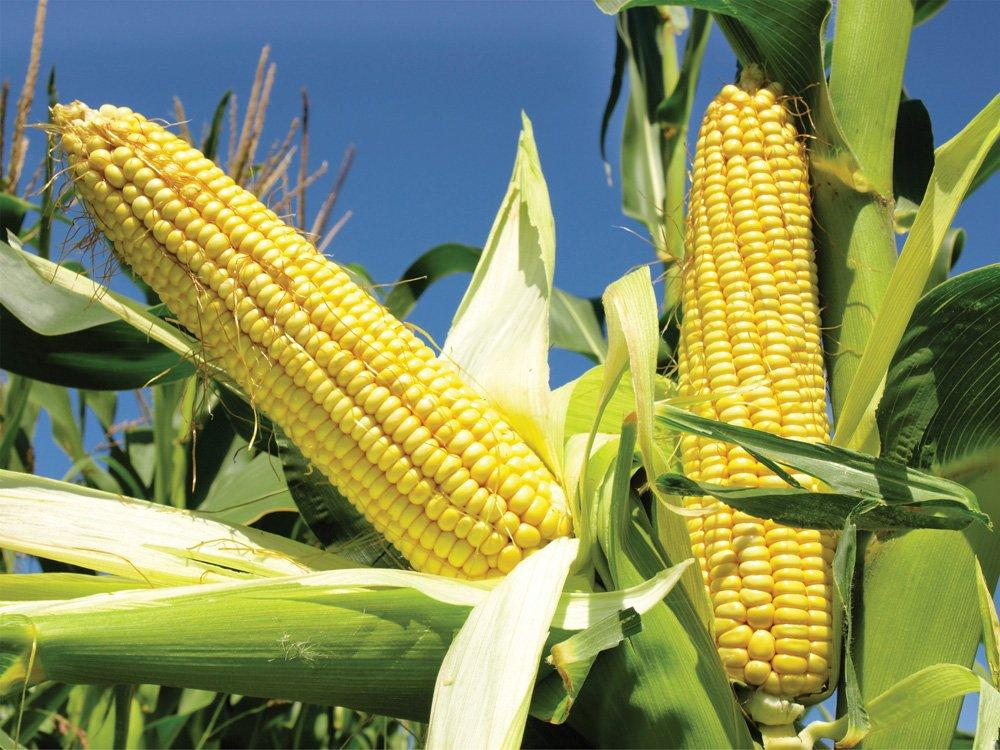corn: (38, 97, 576, 585), (673, 80, 840, 704)
